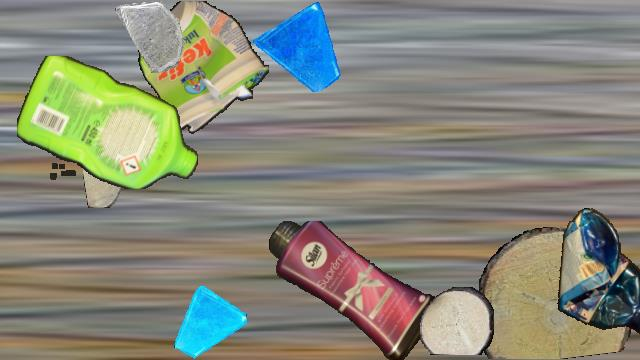glass: (253, 1, 343, 91), (172, 285, 246, 359), (115, 1, 187, 73)
plastic: (17, 56, 199, 188), (268, 221, 440, 359), (137, 1, 269, 139), (554, 206, 640, 342)
wood: (475, 227, 635, 359), (420, 287, 494, 355), (83, 134, 121, 208)
